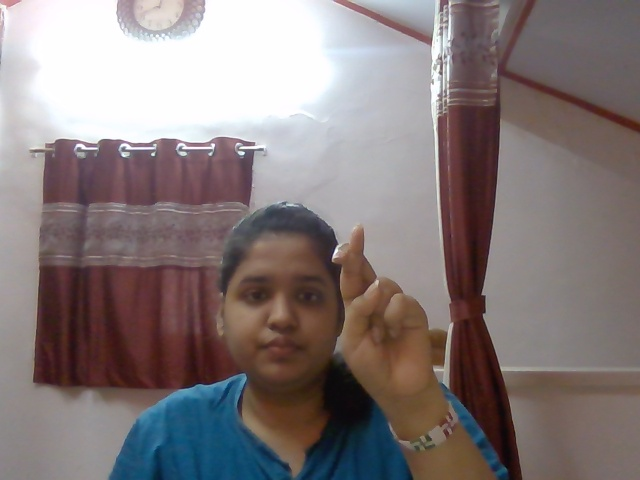r: (325, 219, 443, 398)
